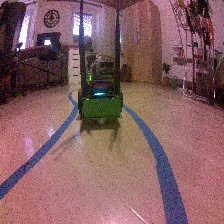rob: (76, 60, 123, 124)
